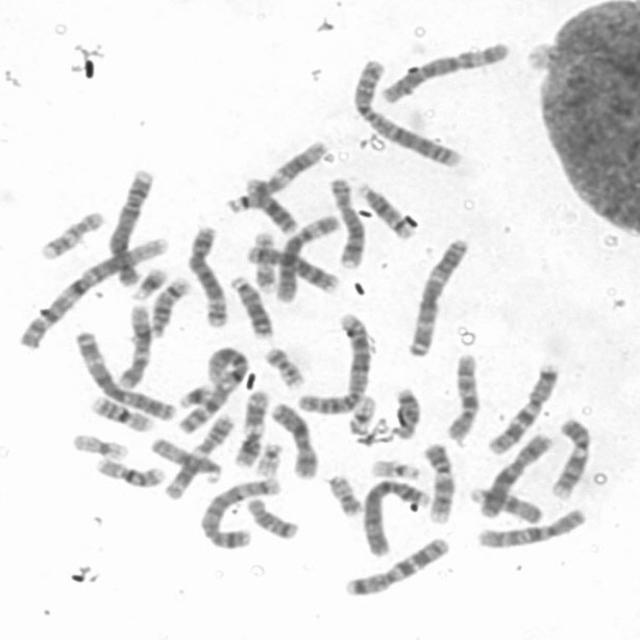A1: (18, 235, 170, 351), (175, 345, 249, 436)
A2: (352, 57, 462, 170), (298, 313, 373, 415)
A3: (72, 329, 178, 422), (406, 237, 469, 359)
B4: (361, 477, 432, 558), (106, 166, 152, 288)
B5: (198, 475, 279, 549), (184, 225, 230, 328)
C10: (475, 508, 587, 552), (443, 353, 483, 442)
C11: (163, 412, 236, 500), (233, 385, 270, 467)
C12: (245, 140, 328, 196), (115, 304, 152, 389)
C6: (379, 41, 509, 105), (274, 214, 342, 303)
C7: (486, 362, 558, 456), (343, 537, 452, 599)
C8: (244, 244, 340, 296), (326, 178, 368, 270)
C9: (546, 418, 593, 500), (423, 442, 457, 526)
D13: (226, 274, 276, 341), (225, 191, 301, 235)
D14: (356, 182, 416, 240), (149, 275, 190, 338)
D15: (150, 436, 224, 484), (469, 488, 545, 526)
E16: (90, 393, 158, 433), (94, 455, 166, 489)
E17: (39, 210, 103, 262), (252, 231, 278, 292)
E18: (246, 497, 303, 542), (391, 385, 422, 440)
F19: (70, 433, 129, 461), (347, 393, 378, 438)
F20: (262, 346, 306, 389), (327, 474, 362, 517)
G21: (129, 265, 168, 302), (177, 382, 214, 410)
G22: (369, 458, 423, 480), (255, 442, 282, 479)
X: (478, 431, 554, 520), (270, 400, 320, 480)
